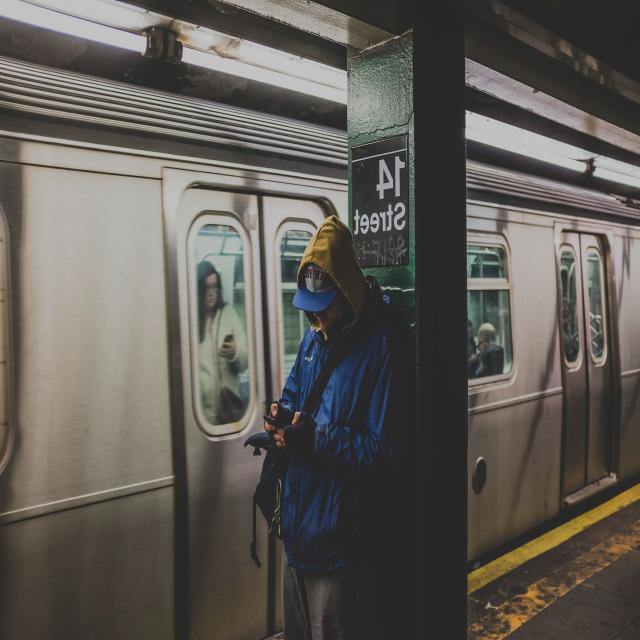adult: (252, 219, 399, 640)
